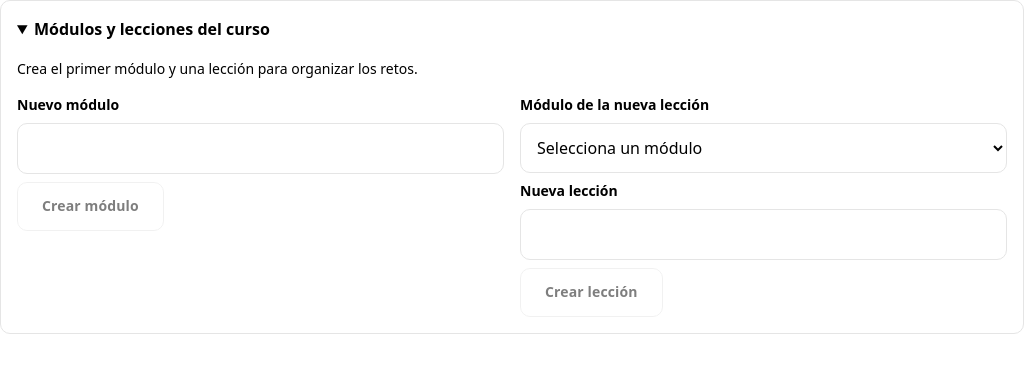
Scenario: Course structure creation › builds a new course's module and lesson using empty 201 responses
The image size is (1024, 387).
expect the text "Crea el primer módulo" is shown: met, box [17,59,418,78]
Type " Módulo nuevo " into the field labelled "Nuevo módulo". click: (260,148)
box: [17,123,504,174]
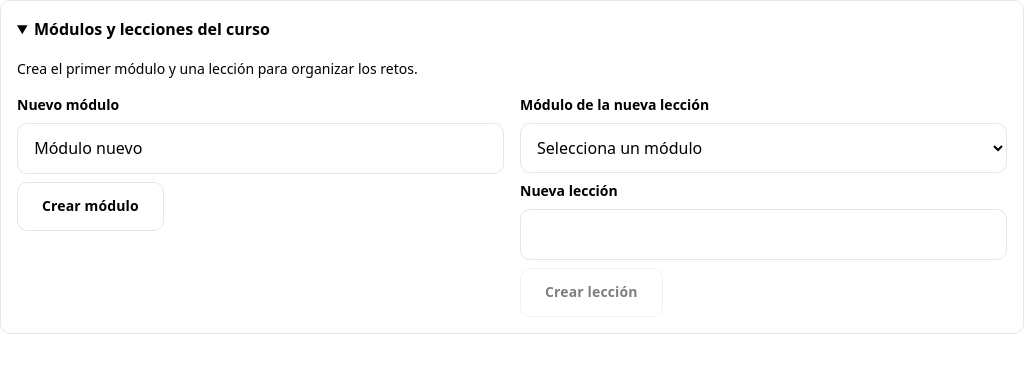
Click the button "Crear módulo". click: (90,206)
box: [17,182,164,231]
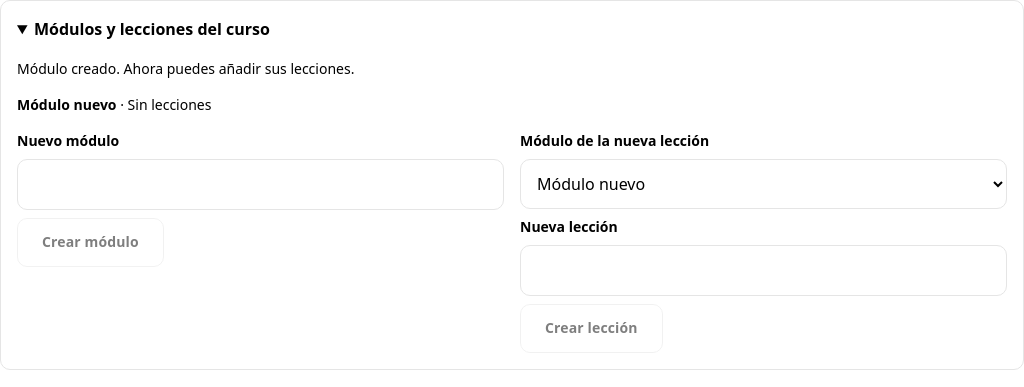
expect the dropdown labelled "Módulo de la nueva lección" shows "Módulo nuevo": met, box [520,159,1007,209]
Type "Lección nueva" into the field labelled "Nueva lección". click: (764,270)
box: [520,245,1007,296]
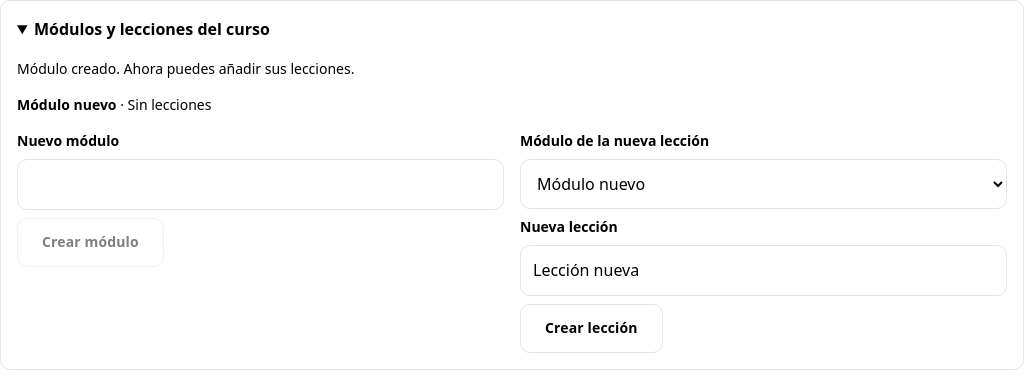
Click the button "Crear lección". click: (591,328)
box: [520,304,663,353]
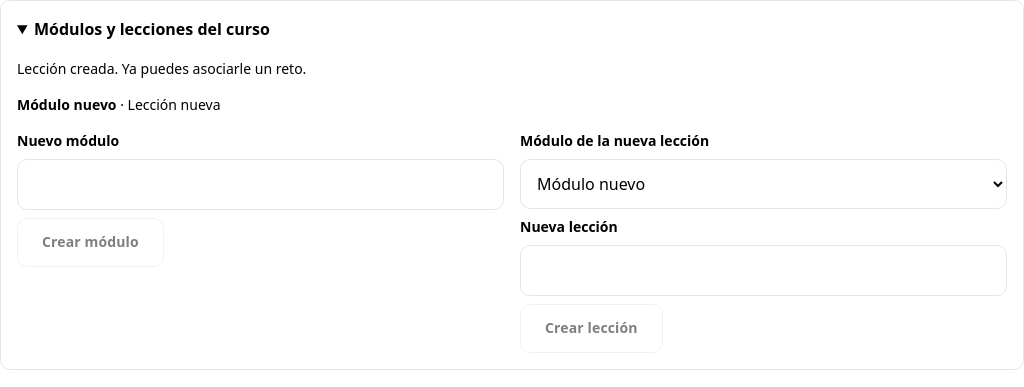
expect the text "Lección creada. Ya puedes asociarle un reto." is shown: met, box [17,59,306,78]
